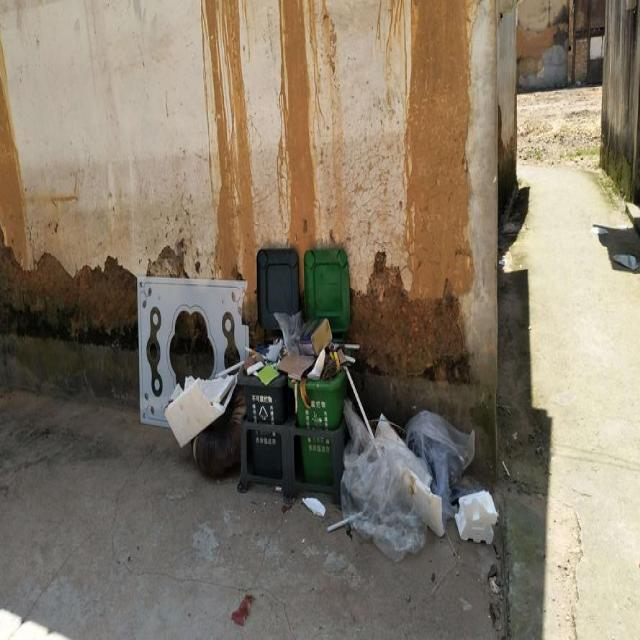garbage: (300, 398, 499, 561), (162, 358, 243, 484)
overflow: (274, 312, 358, 485), (237, 335, 286, 471)
